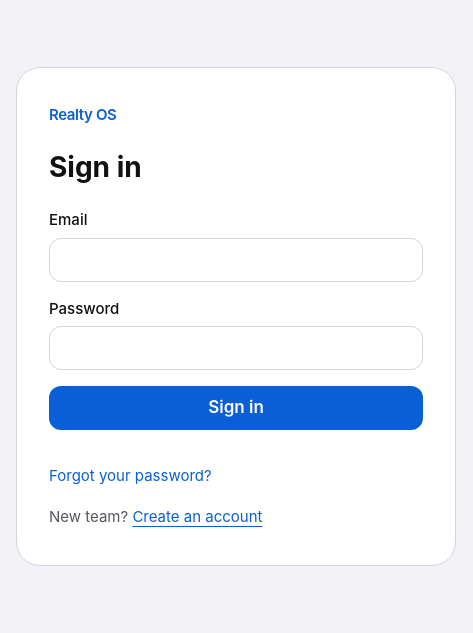
Test: session gate › a failed sign-in shows the uniform sentence, never the code, and clears the password
Type "ava@example.test" into the field labelled "Email". click: (236, 260)
box: [49,238,423,282]
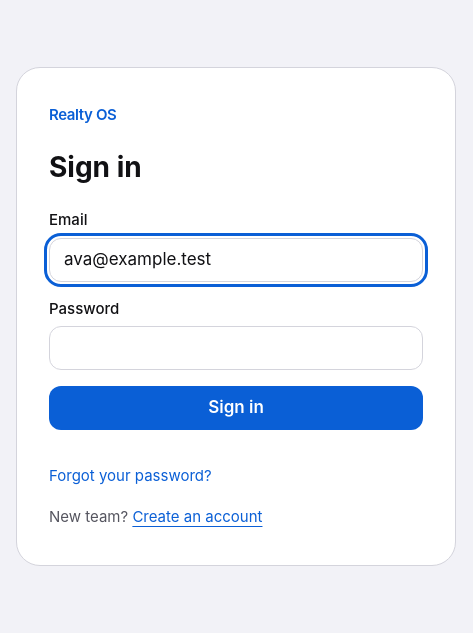
Type "wrong" into the password field labelled "Password". click: (236, 348)
box: [49,326,423,370]
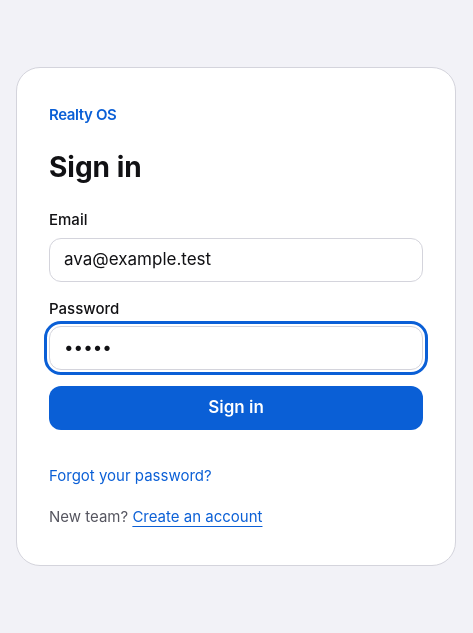
Click the button "Sign in". click: (236, 408)
box: [49,386,423,430]
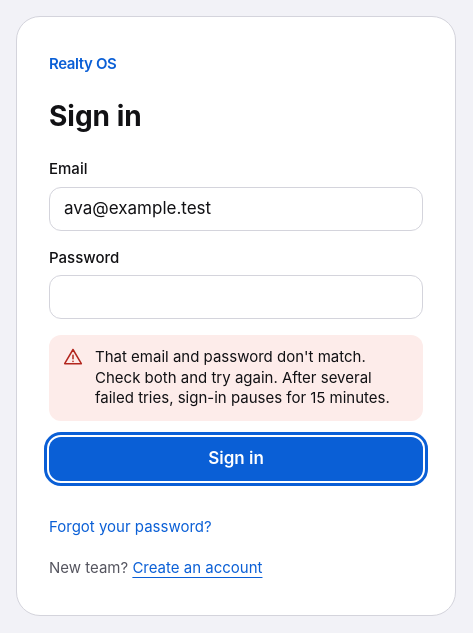
Now the message shows "That email and password don't match.", box [95,347,390,407]
Now the password field labelled "Password" is empty, box [49,275,423,319]
